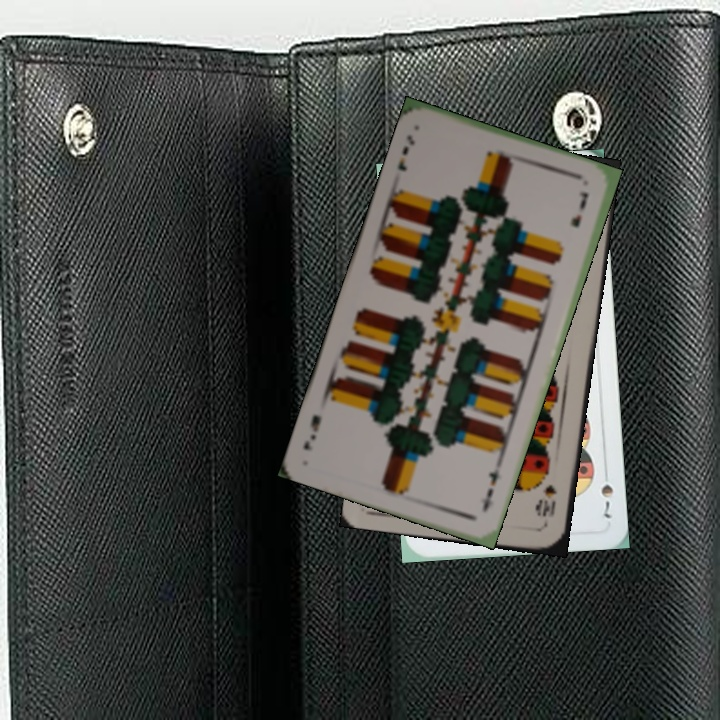E7: (476, 461, 503, 515), (394, 131, 418, 174)
S10: (536, 481, 559, 528)
S7: (596, 480, 616, 521)
